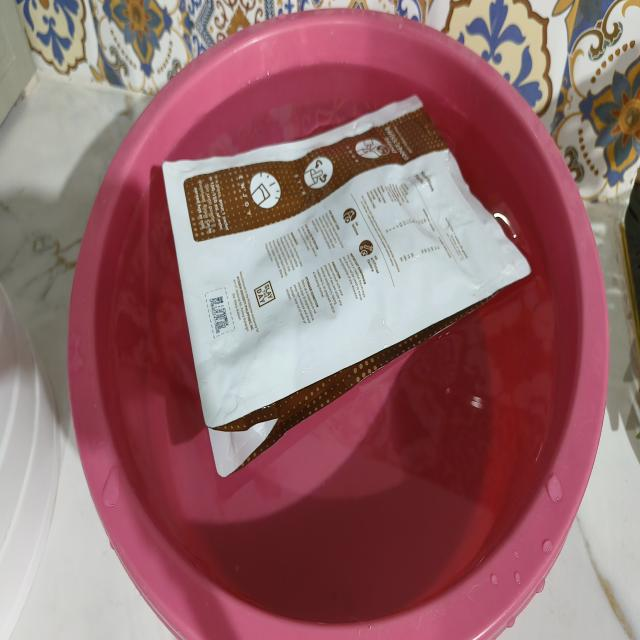Plastic Pouch: (162, 96, 530, 477)
